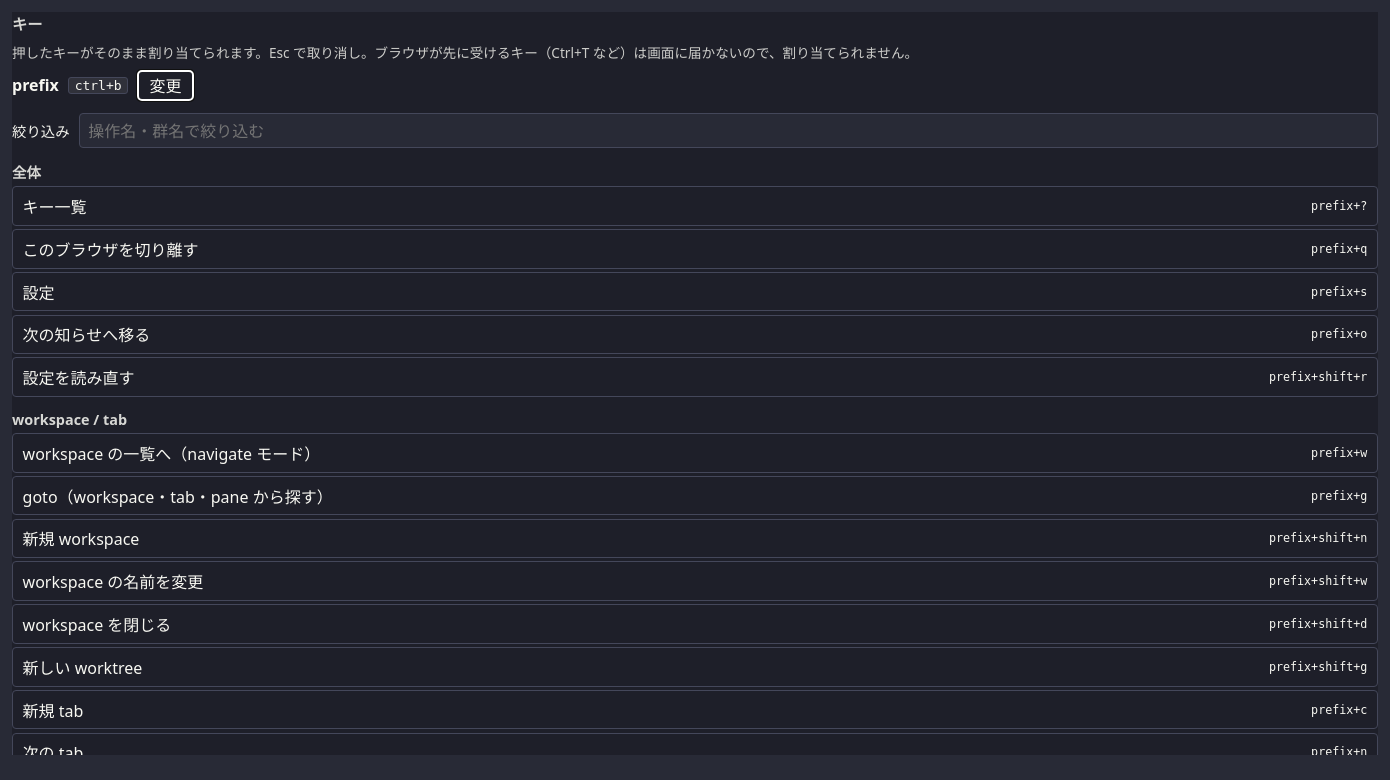
Test: KeySettings — prefix の変更（AC3・AC-I1〜I5） › ［変更］で取り込み待ちに入り、フォーカスが取り込みの部品へ移る。押したキーで確定し、フォーカスは［変更］へ戻る
This screenshot has width=1390, height=780.
Click the button "変更" at x=166, y=85, box [137,70,194,101]
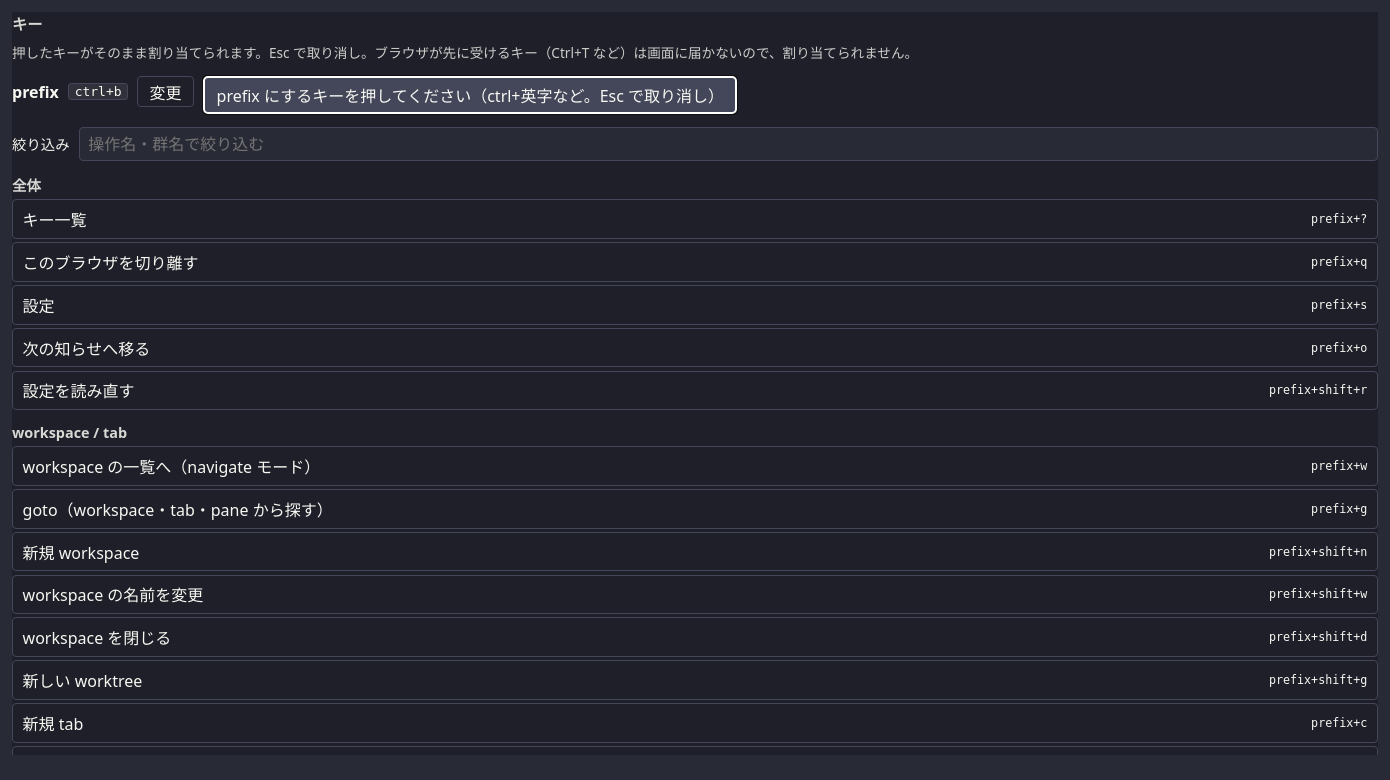
Check: the button with class "keys-capture" is shown
Press a in the button with class "keys-capture", box [203,76,737,114]
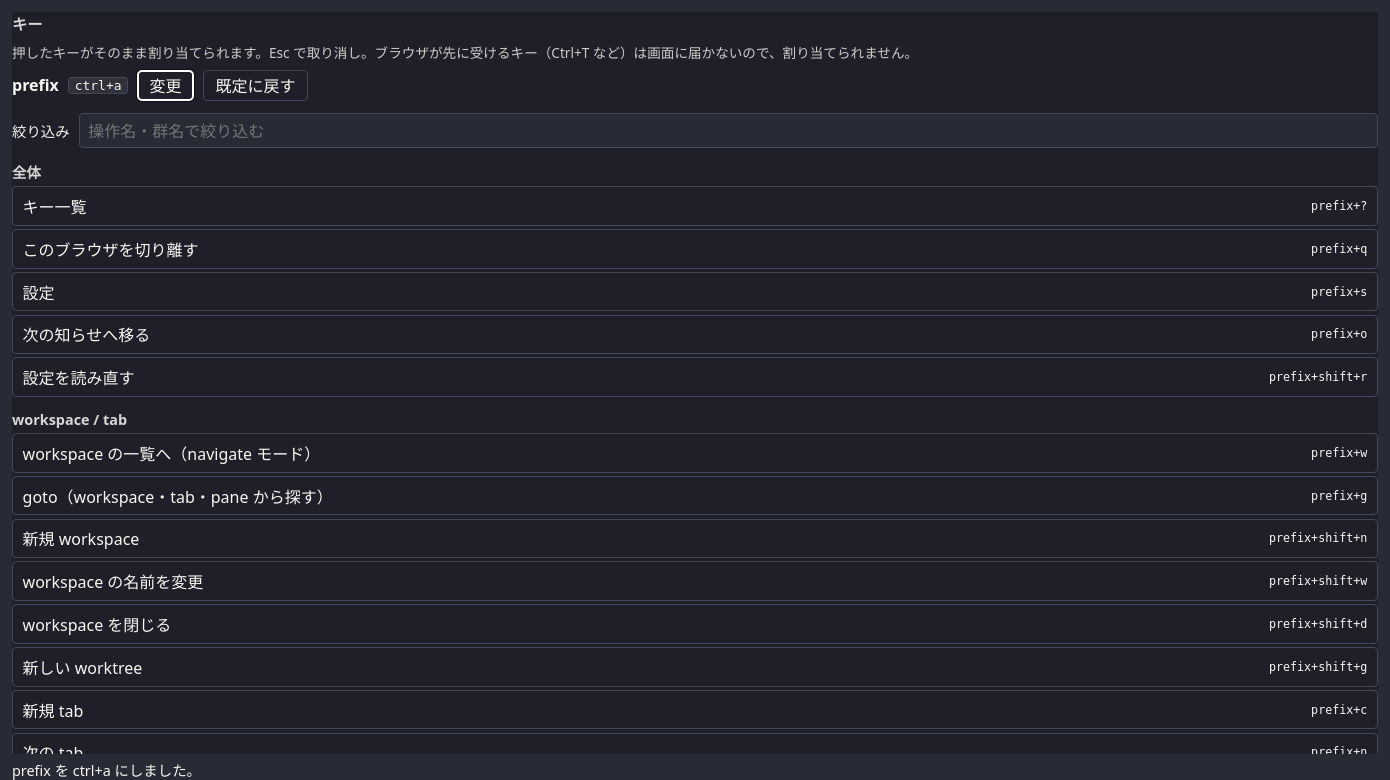
Check: the text "ctrl+a" is shown, box [68,77,128,94]
Check: the message "prefix を ctrl+a にしました。" is shown, box [12,761,201,779]
Check: the button with class "keys-capture" is gone
